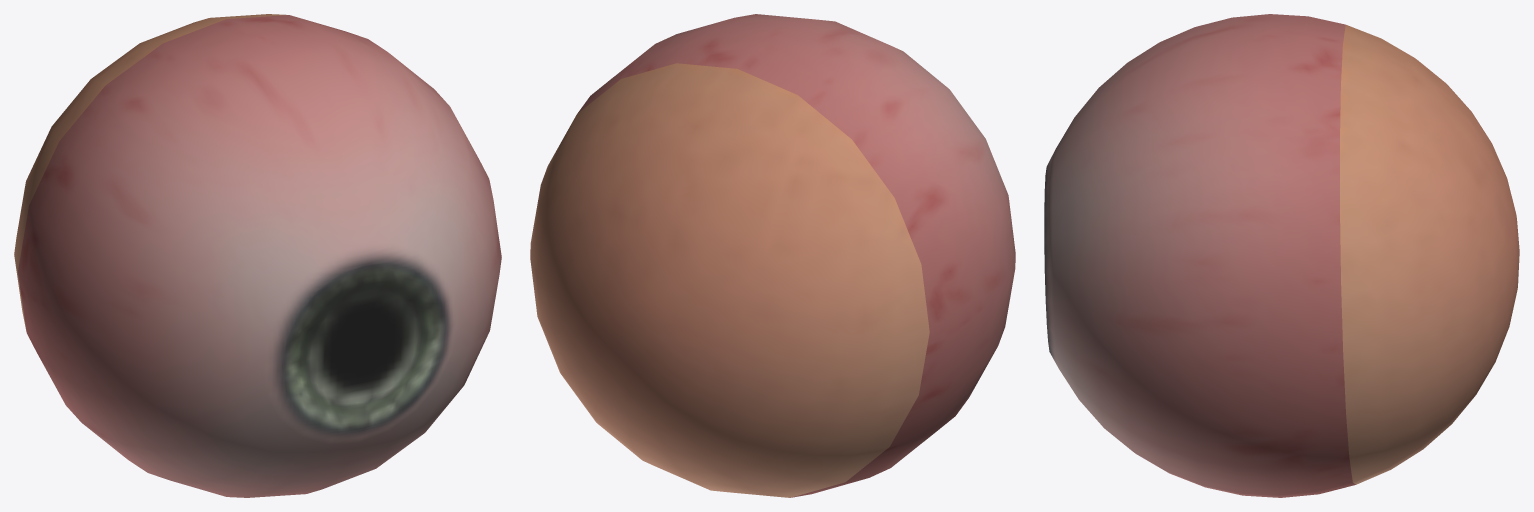
The model's file is EyeBig.fbx.
3 views of the same model, side by side, from view 1: azimuth 30°, elevation 25°; view 2: azimuth 150°, elevation 25°; view 3: azimuth 270°, elevation 25° (orthographic).
Parts seen in each view (by area): view 1: polySurface4; view 2: polySurface4; view 3: polySurface4.
Part boxes in pixels (left/top/right/bottom): polySurface4: left=14, top=14, right=501, bottom=497; polySurface4: left=530, top=14, right=1015, bottom=497; polySurface4: left=1044, top=14, right=1519, bottom=497.
Size of the model in its own units: 3.43 by 3.42 by 3.34.
1 material, 1 textured.
